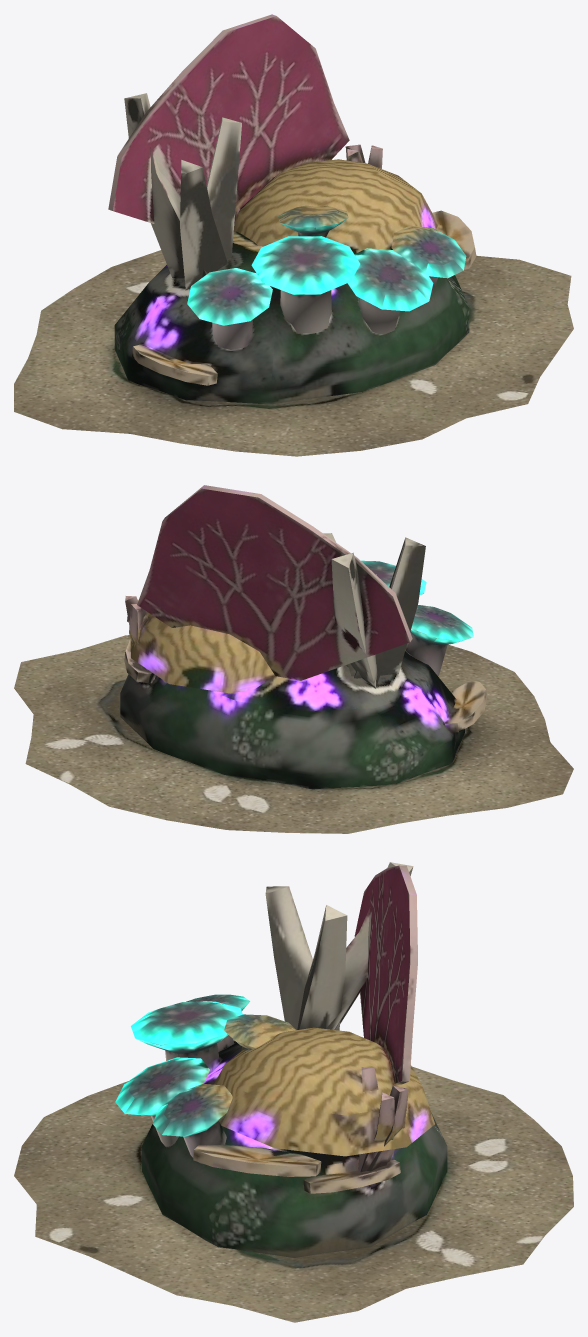
The model's file is drowned_coral.glb.
3 views of the same model, one above another, from view 1: azimuth 30°, elevation 25°; view 2: azimuth 150°, elevation 25°; view 3: azimuth 270°, elevation 25° (orthographic). The views are drawn at different scales.
Visible parts, largest first — view 1: drowned_coral; view 2: drowned_coral; view 3: drowned_coral.
Part boxes in pixels (box(x1,y1,x2,y2)): drowned_coral: box(14, 14, 573, 456); drowned_coral: box(14, 485, 573, 833); drowned_coral: box(14, 862, 573, 1322).
Size of the model in its own units: 2.12 by 1.02 by 1.72.
Materials: 1 (1 with a texture image).
